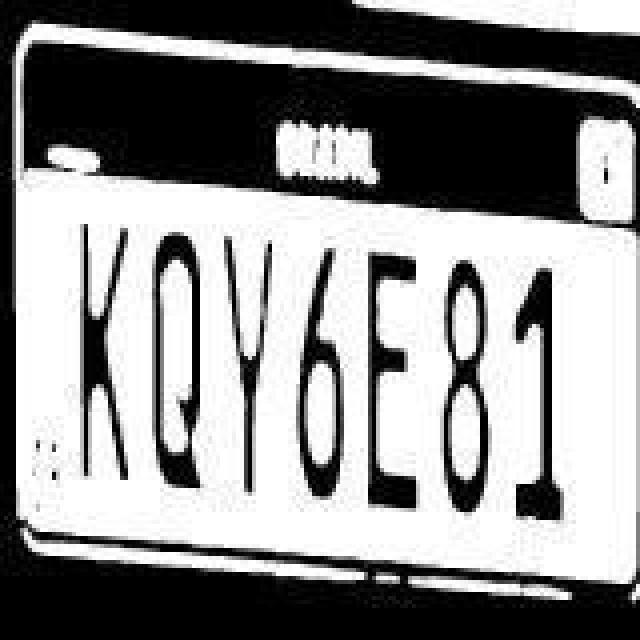1: (512, 248, 592, 536)
6: (298, 208, 358, 528)
8: (438, 224, 506, 528)
E: (360, 230, 440, 530)
K: (64, 202, 144, 518)
Q: (146, 220, 214, 524)
Y: (220, 210, 292, 526)
